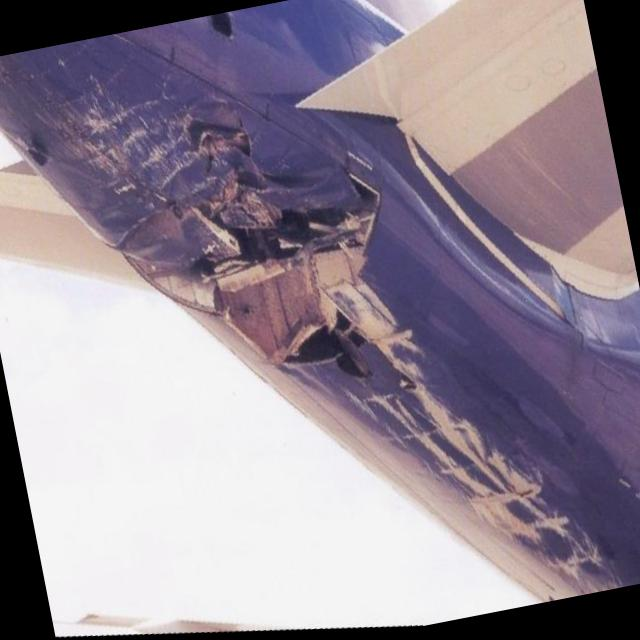crack: (163, 90, 414, 409)
